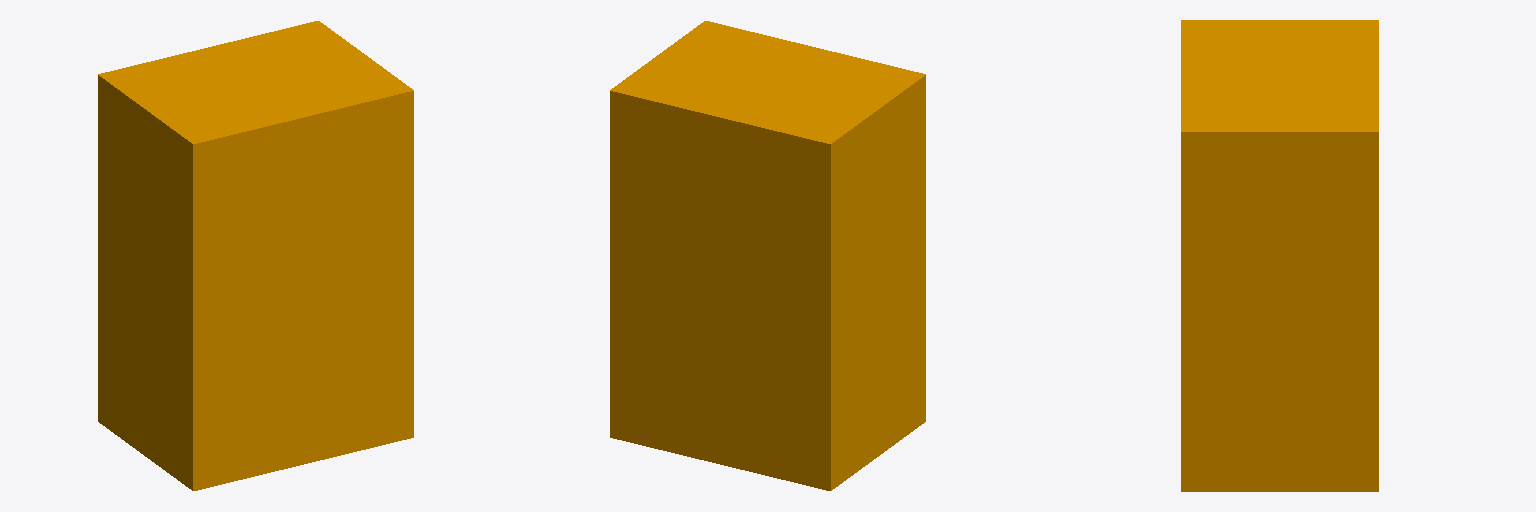
robot.urdf — box:
<?xml version="1.0"?>
<robot name="box">
  <link name="l0">
    <inertial>
      <mass value="100.0" />
			<inertia ixx="0.1667" ixy="0.0" ixz="0.0" iyy="0.1667" iyz="0.0" izz="0.1667" />
    </inertial>
		<visual> <geometry> <box size="0.2 0.15 0.3"/> </geometry> </visual>
		<collision> <geometry> <box size="0.2 0.15 0.3"/> </geometry> </collision>
  </link>
</robot>

--- Render facts (derived) ---
3 views of the same robot in one strip: view 1: azimuth 30°, elevation 25°; view 2: azimuth 150°, elevation 25°; view 3: azimuth 270°, elevation 25° (orthographic).
Model box with 1 links and 0 joints (none), rooted at l0, posed all joints at 0.
Links seen in each view (by area): view 1: l0; view 2: l0; view 3: l0.
Link boxes in pixels (bbox=[...]): l0: bbox=[98, 21, 413, 490]; l0: bbox=[610, 21, 925, 490]; l0: bbox=[1181, 20, 1378, 491].
Size in the robot's own frame: 0.2 by 0.15 by 0.3 metres.
Geometry: primitives only (box / cylinder / sphere), no mesh files.